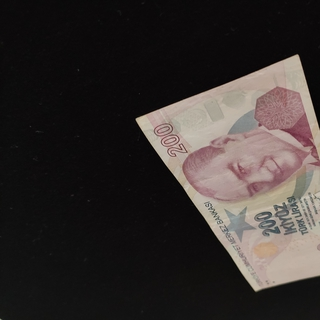200TLFront: (135, 53, 320, 292)
